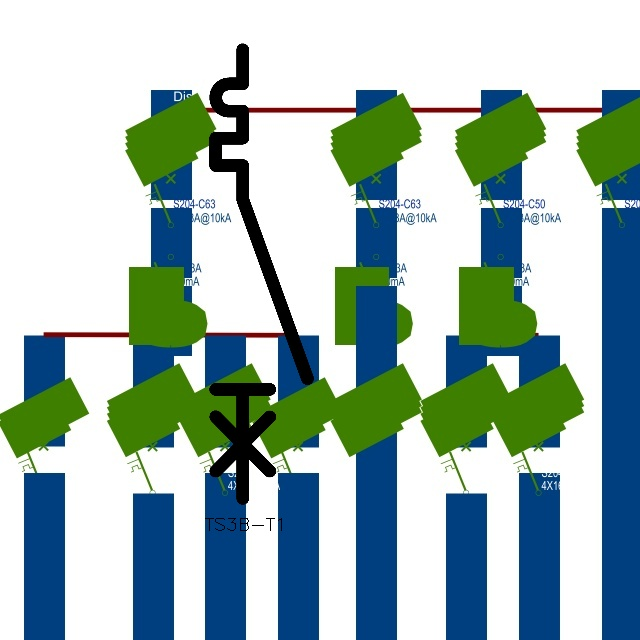interruptor_termomagnetico: (204, 38, 319, 509)
